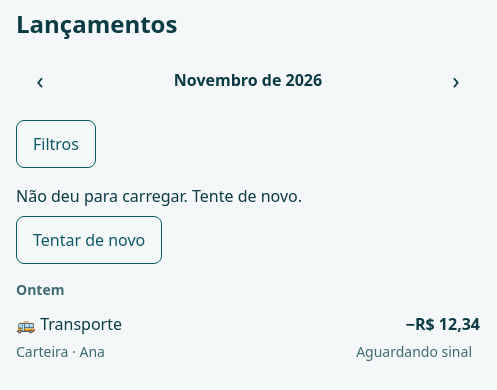
Test case: TransactionsPage › offers to try again when the list fails, keeping the queue listed
Check: the text "Não deu para carregar. Tente de novo." is shown, box [16,184,302,208]
Check: the text "🚌 Transporte" is shown, box [16,312,122,336]
Step 1. Click the button "Tentar de novo" → (89, 240), box [16,216,162,264]
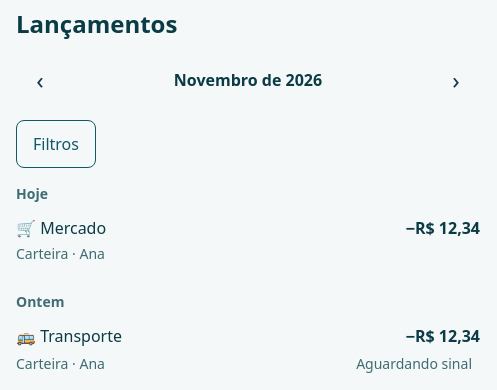
Check: the text "🚌 Transporte" is shown, box [16,324,122,348]
Check: the text "🛒 Mercado" is shown, box [16,216,106,240]
Check: the text "Não deu para carregar. Tente de novo." is gone
